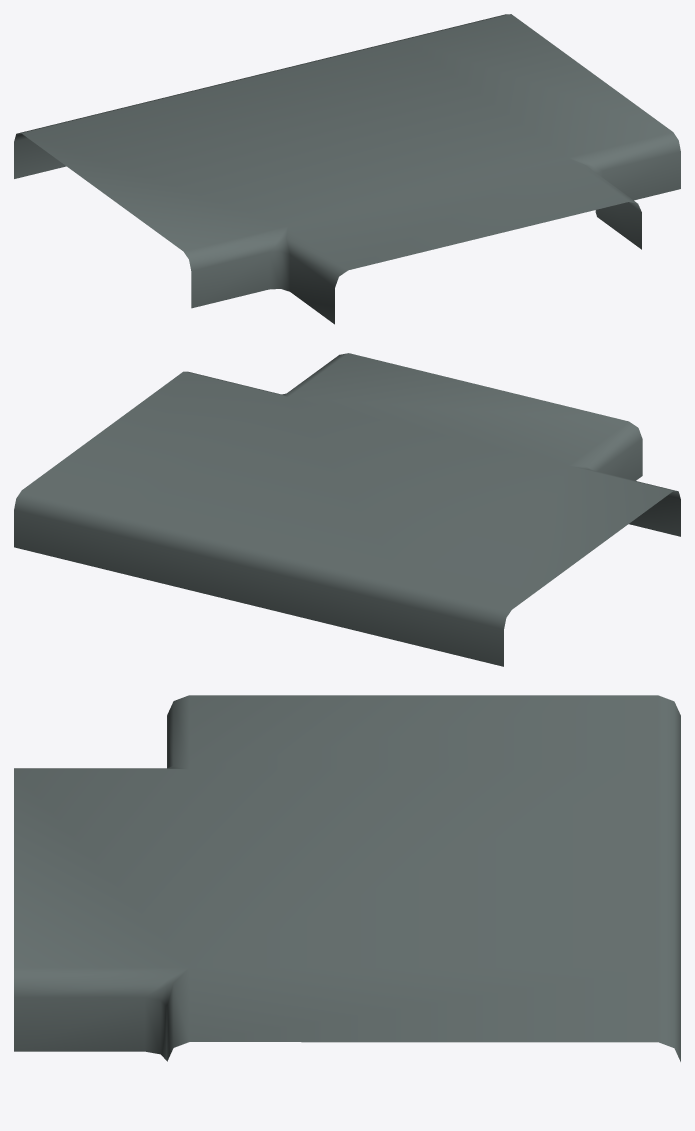
Rendered from road_01_t_shape.fbx.
3 renders of one model, top to bottom at view 1: azimuth 30°, elevation 25°; view 2: azimuth 150°, elevation 25°; view 3: azimuth 270°, elevation 25°, orthographic. The views are drawn at different scales.
Parts seen in each view (by area): view 1: road_01_t_shape; view 2: road_01_t_shape; view 3: road_01_t_shape.
Boxes of the visible parts, x1=… form: road_01_t_shape: x1=14, y1=14, x2=680, y2=324; road_01_t_shape: x1=14, y1=353, x2=680, y2=666; road_01_t_shape: x1=14, y1=695, x2=680, y2=1061.
Bounding box in the file's own units: 20 × 2.01 × 16.24.
